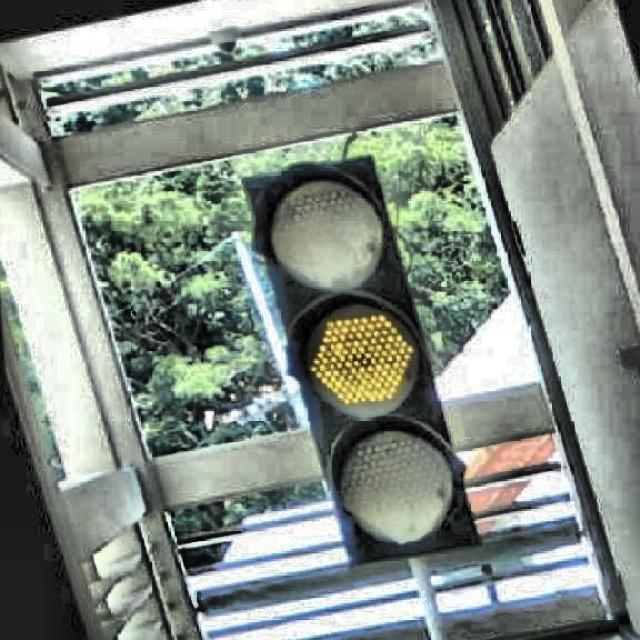yellow: (240, 173, 484, 553)
